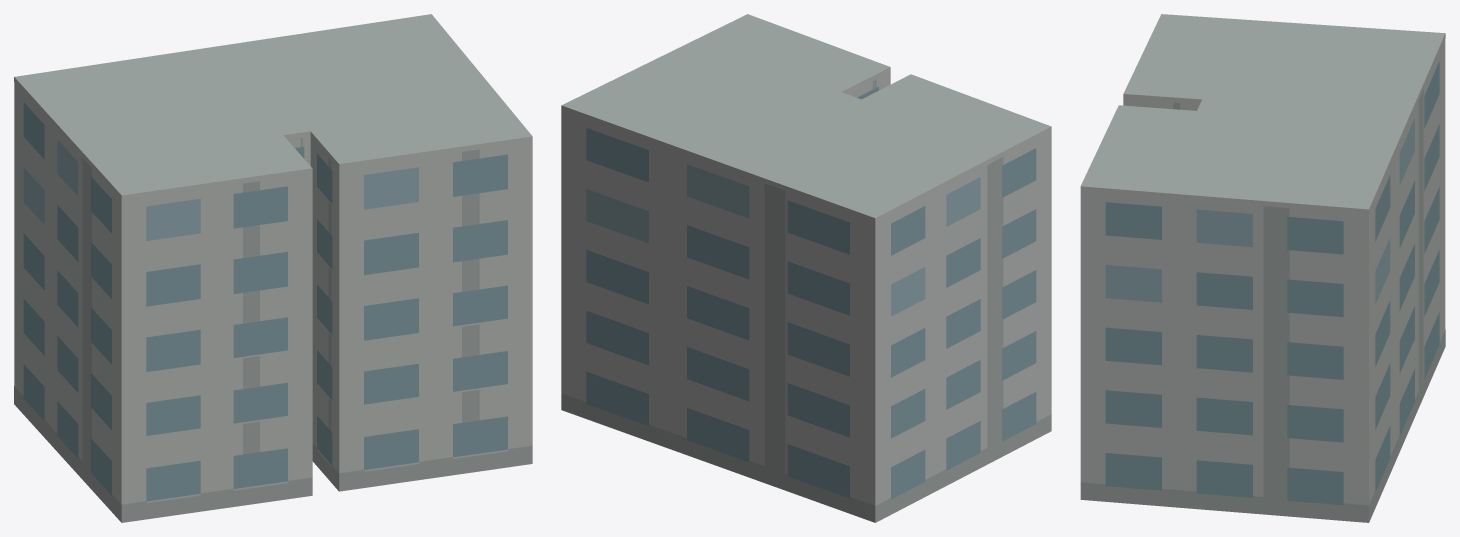
Rendered from survey-upis-32827241.glb.
The picture shows the model from 3 angles, left to right: view 1: azimuth 30°, elevation 25°; view 2: azimuth 150°, elevation 25°; view 3: azimuth 270°, elevation 25°; orthographic projection. The views are drawn at different scales.
Parts seen in each view (by area): view 1: survey-upis-32827241.tmp; view 2: survey-upis-32827241.tmp; view 3: survey-upis-32827241.tmp.
Boxes of the visible parts, x1,y1,x2,y2 form: survey-upis-32827241.tmp: (14, 14, 532, 522); survey-upis-32827241.tmp: (561, 14, 1051, 522); survey-upis-32827241.tmp: (1080, 14, 1445, 522).
Size of the model in its own units: 19.87 by 14.85 by 15.68.
